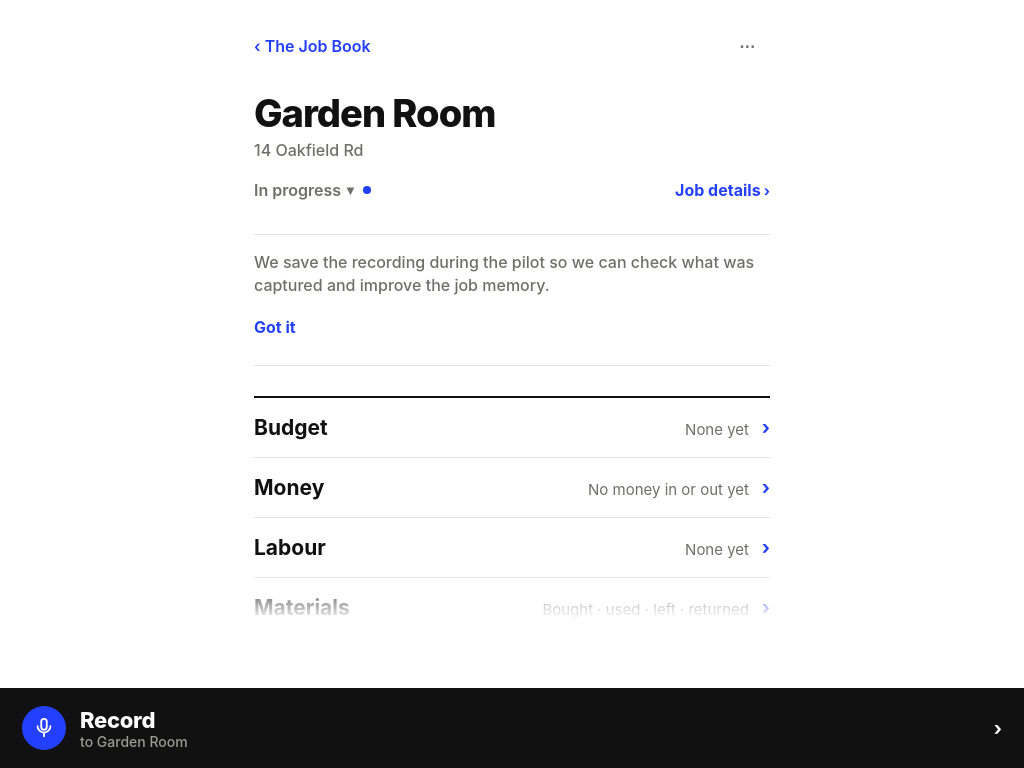
Test: CurrentJobWorkspace — capture › shows a capture confirmation after recording that can be dismissed
Click the button with aria-label "start recording" at (44, 728), box [0,688,1023,767]
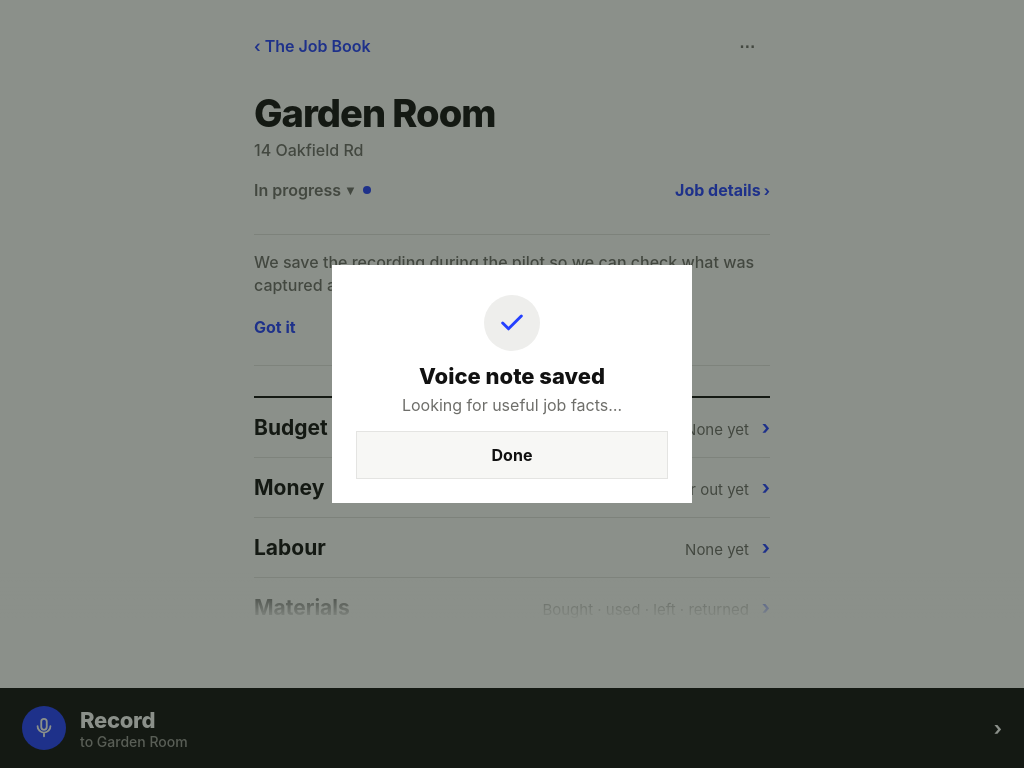
Result: the text "Voice note saved" is shown at [419,363,605,389]
Click the button "Done" at (512, 455), box [356,431,668,479]
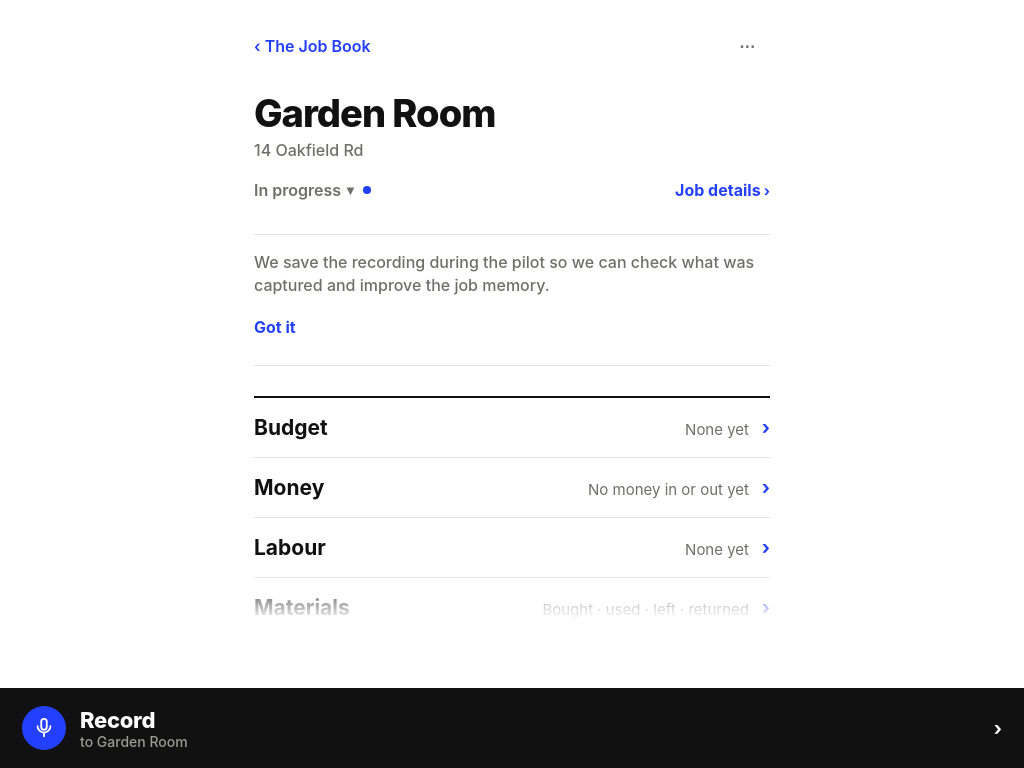
Result: the dialog is gone
